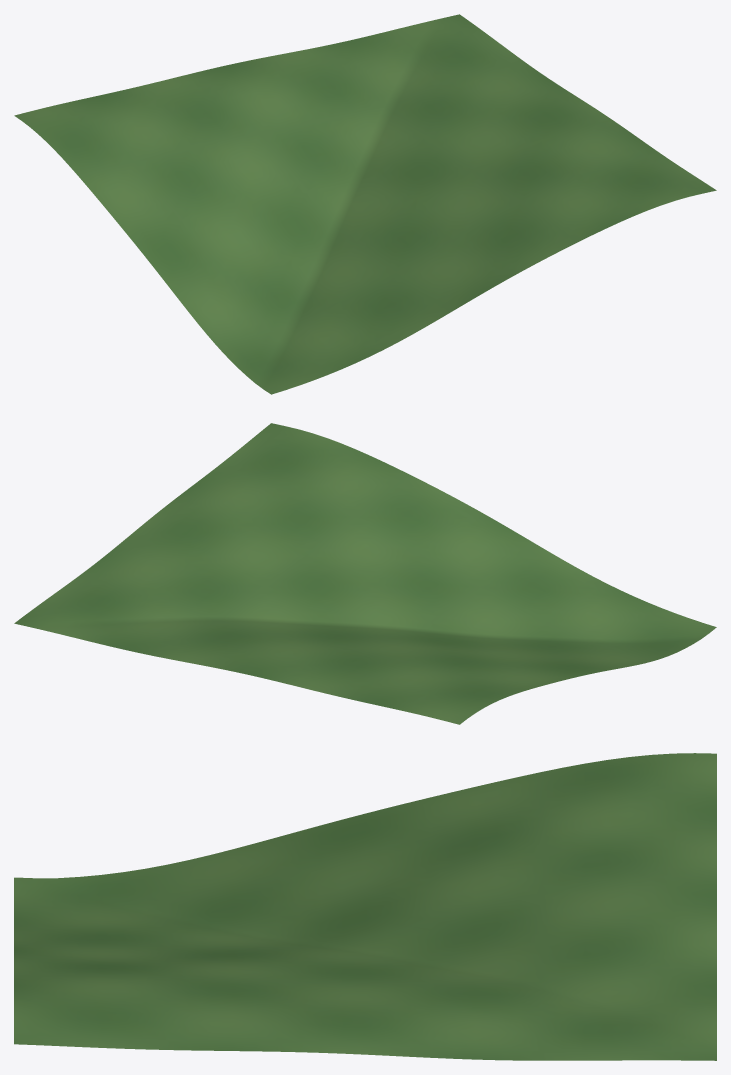
Rendered from chunk_12_0.glb.
The picture shows the model from 3 angles, top to bottom: view 1: azimuth 30°, elevation 25°; view 2: azimuth 150°, elevation 25°; view 3: azimuth 270°, elevation 25°; orthographic projection. The views are drawn at different scales.
Bounding box in the file's own units: 512 × 106 × 512.
